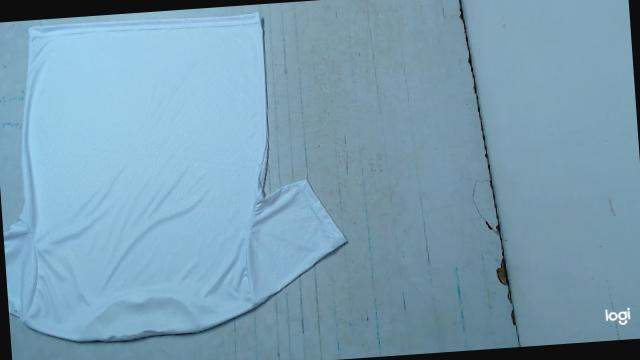new-garment: (3, 13, 346, 341)
